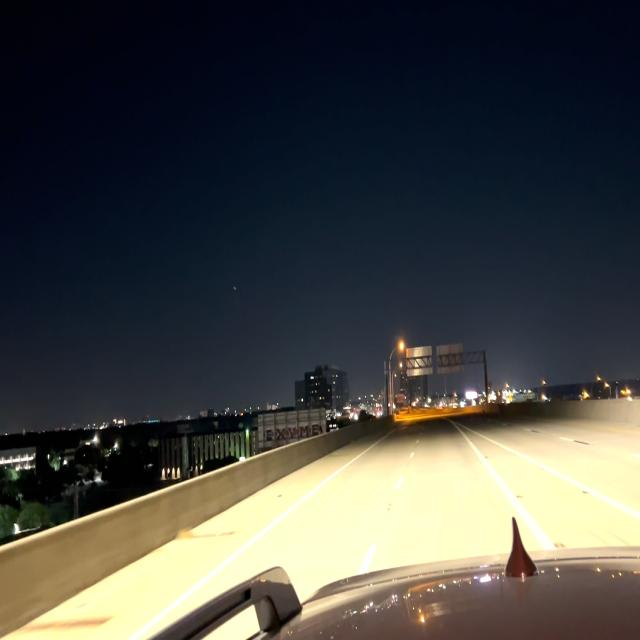back-of-sign: (406, 342, 435, 379), (436, 341, 465, 375)
